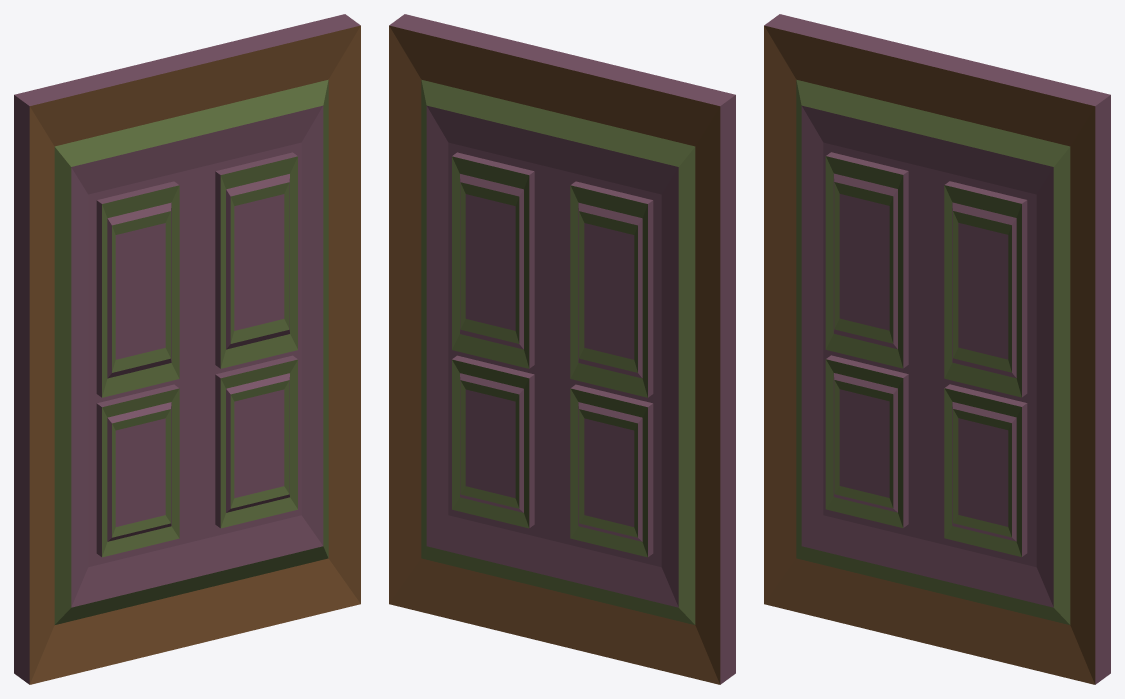
File: DOOR2nohandle.fbx
3 renders of one model, left to right at view 1: azimuth 30°, elevation 25°; view 2: azimuth 150°, elevation 25°; view 3: azimuth 330°, elevation 25°, orthographic.
Visible parts, largest first — view 1: DOOR2; view 2: DOOR2; view 3: DOOR2.
Boxes of the visible parts, <box> form: DOOR2: <box>14,14,360,684</box>; DOOR2: <box>389,14,735,684</box>; DOOR2: <box>764,14,1110,684</box>.
Bounding box in the file's own units: 3.05 × 5.1 × 0.4411.
